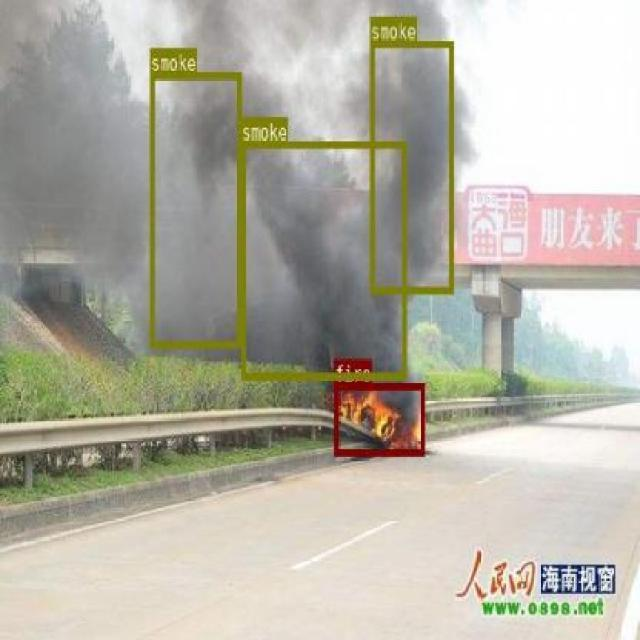fire: (333, 382, 424, 455)
smoke: (240, 140, 406, 378), (150, 71, 241, 347), (370, 39, 452, 292)
